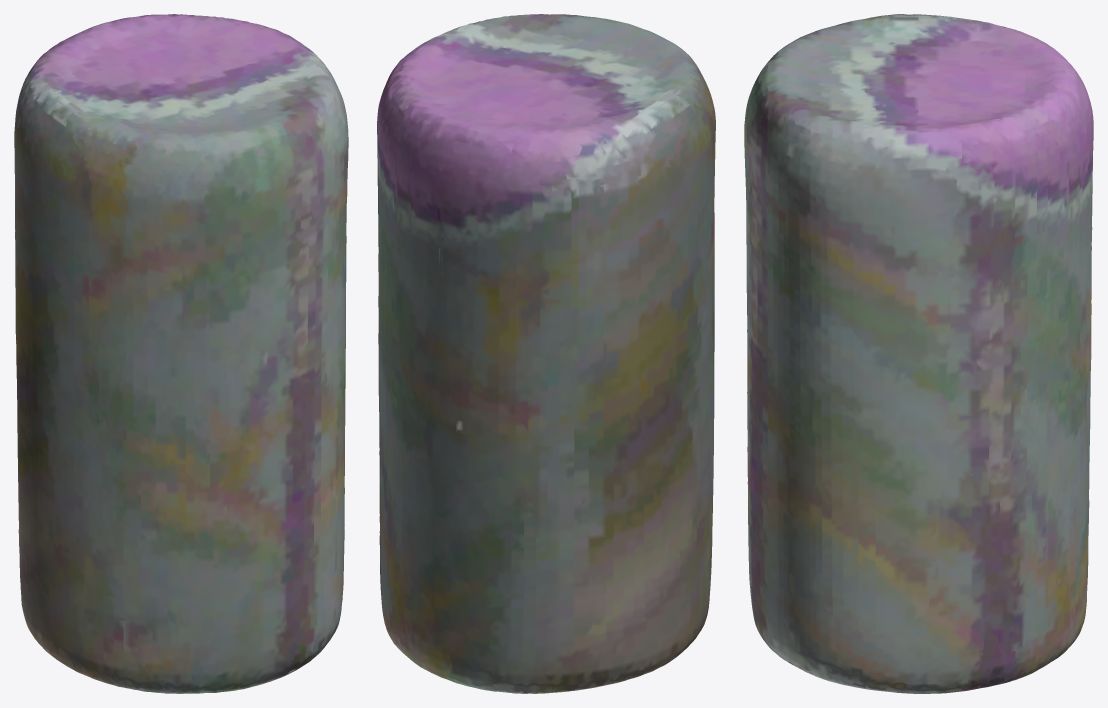
File: mesh_net04_pcd.glb
3 renders of one model, left to right at view 1: azimuth 30°, elevation 25°; view 2: azimuth 150°, elevation 25°; view 3: azimuth 270°, elevation 25°, orthographic.
Size of the model in its own units: 0.4079 by 0.7757 by 0.4335.
